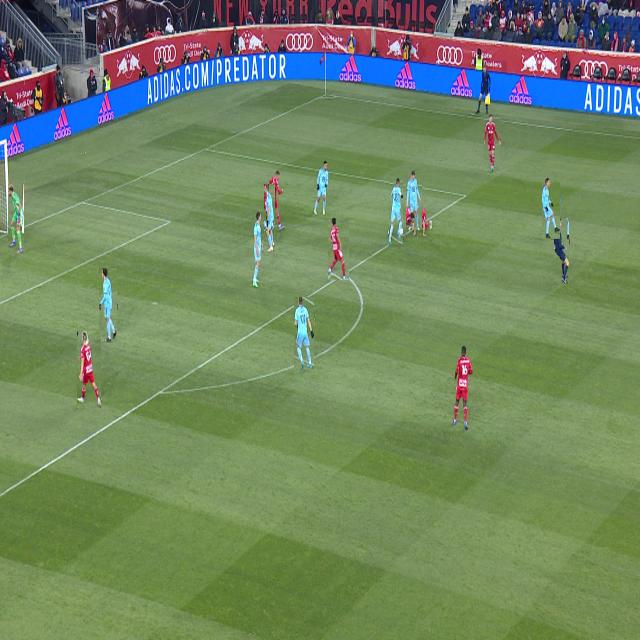football: (388, 229, 393, 237)
goalkeeper: (8, 185, 24, 254)
player: (78, 331, 101, 408), (452, 346, 473, 430), (295, 297, 314, 371), (328, 218, 349, 280), (100, 268, 117, 342), (542, 178, 560, 239), (406, 171, 422, 230), (389, 178, 403, 245), (269, 170, 284, 230), (485, 116, 500, 171), (253, 212, 263, 288), (314, 161, 328, 215), (264, 185, 275, 252), (413, 208, 432, 236), (417, 222, 420, 231), (265, 221, 267, 231)
referee: (554, 218, 569, 284)
